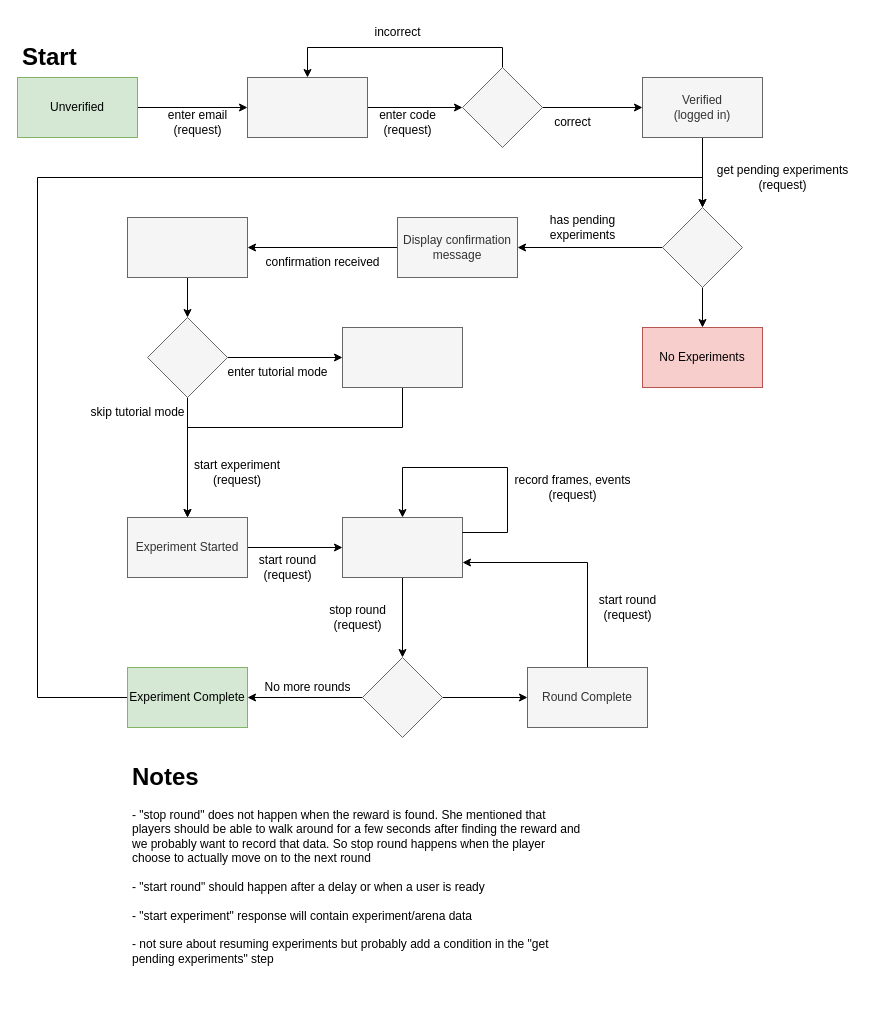
The diagram is 875 pixels wide and 1024 high, and some of its shapes have lost their labels. The centre of each missing label's shape, as x and y in pixels:
"Chosen to continue" belongs at [187,247].
"Round Started" belongs at [402,547].
"Tutorial Mode" belongs at [402,357].
"Unverified (pending code)" belongs at [307,107].
